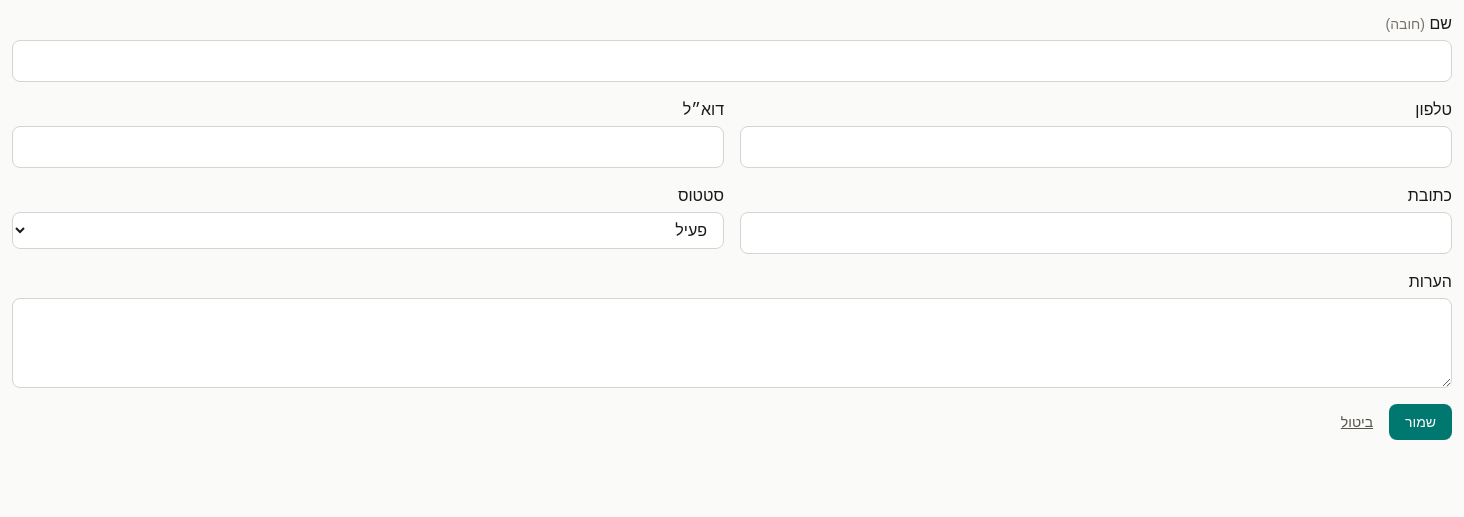
it: form feedback › preserves entered values after server validation rejects a client
This screenshot has width=1464, height=517.
In the field named "name": (732, 61) [12,40,1452,82], type "שם שנשמר בטופס"
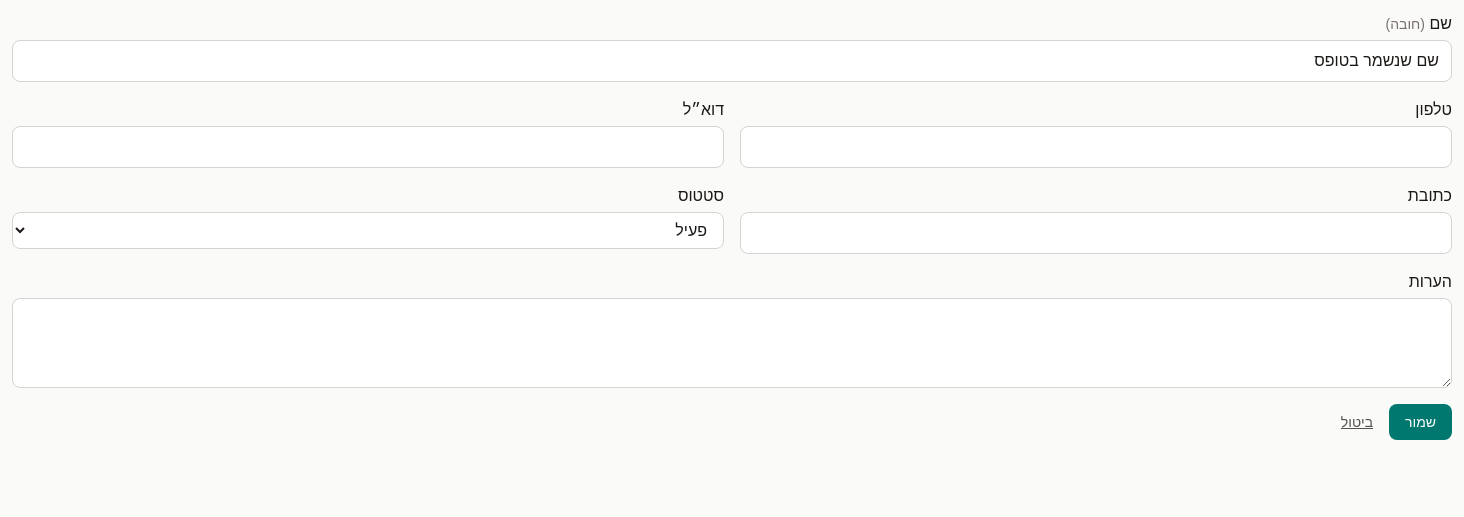
In the field named "email": (368, 147) [12,126,724,168], type "invalid-email"
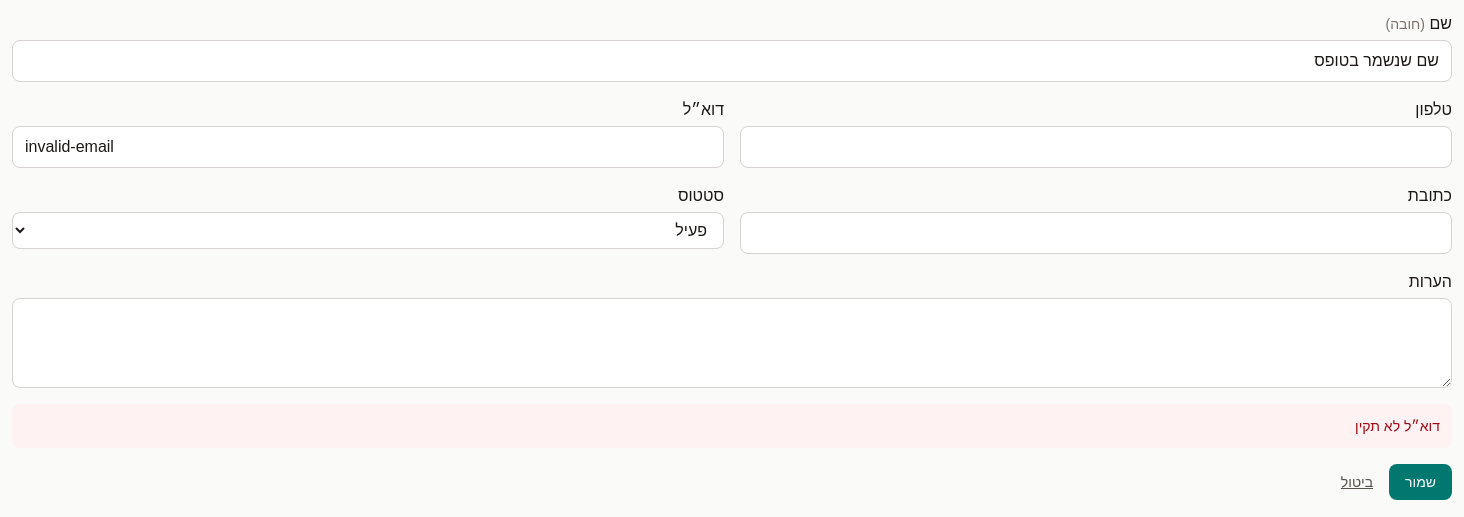
Check: the message "דוא״ל לא תקין" is shown, box [12,404,1452,448]
